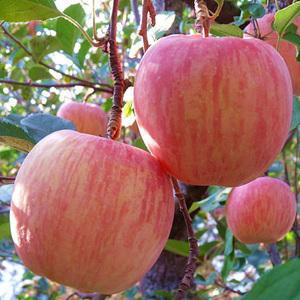apple: (125, 34, 294, 215), (9, 134, 178, 294), (222, 176, 296, 247)
